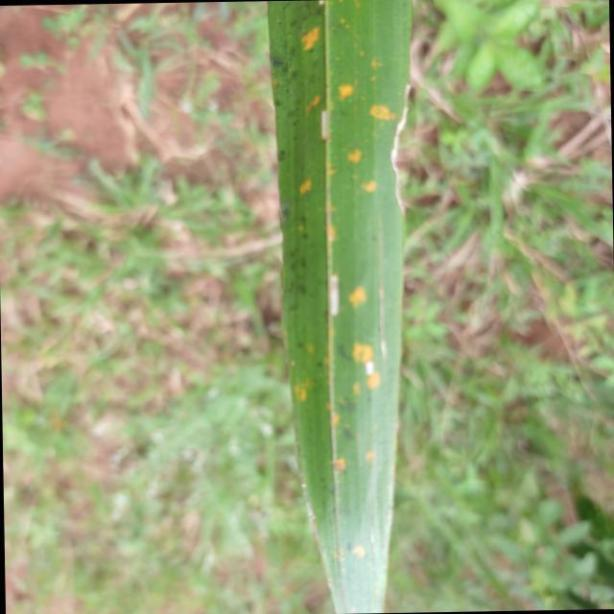Kalium: (267, 0, 411, 614)
